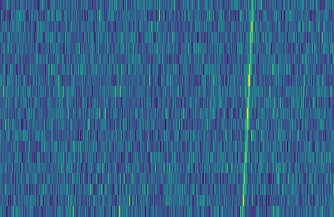signal: (239, 0, 258, 217)
